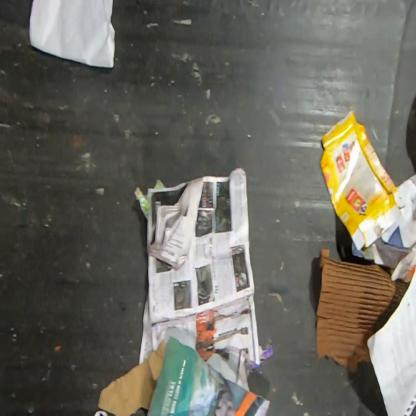cardboard: (320, 110, 407, 254), (315, 247, 410, 373), (97, 338, 167, 415)
